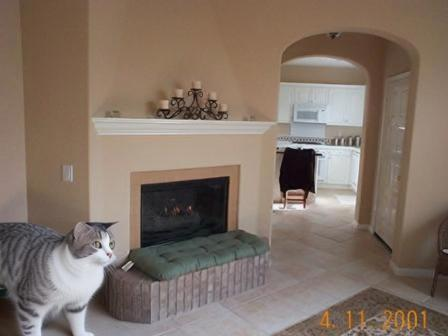cat: (1, 222, 117, 336)
chair: (281, 149, 317, 211), (429, 216, 448, 297)
